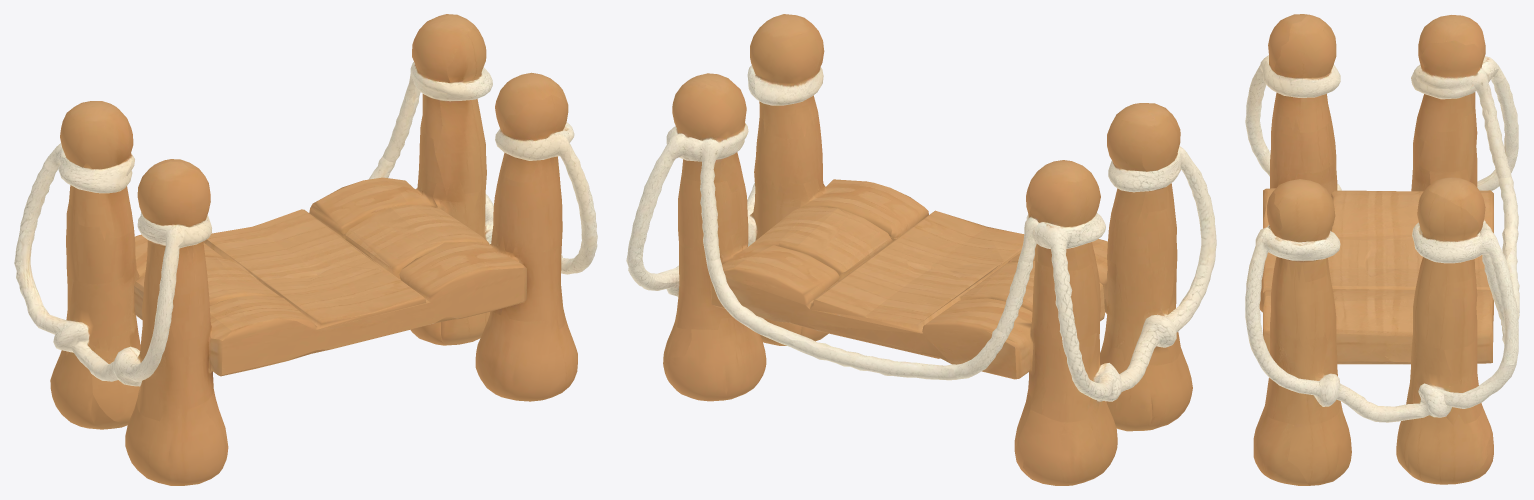
File: s1_gen_wood_bridge.glb
The picture shows the model from 3 angles, left to right: view 1: azimuth 30°, elevation 25°; view 2: azimuth 150°, elevation 25°; view 3: azimuth 270°, elevation 25°; orthographic projection. The views are drawn at different scales.
Bounding box in the file's own units: 1.9 × 1.21 × 1.04.
1 material, 1 textured.
